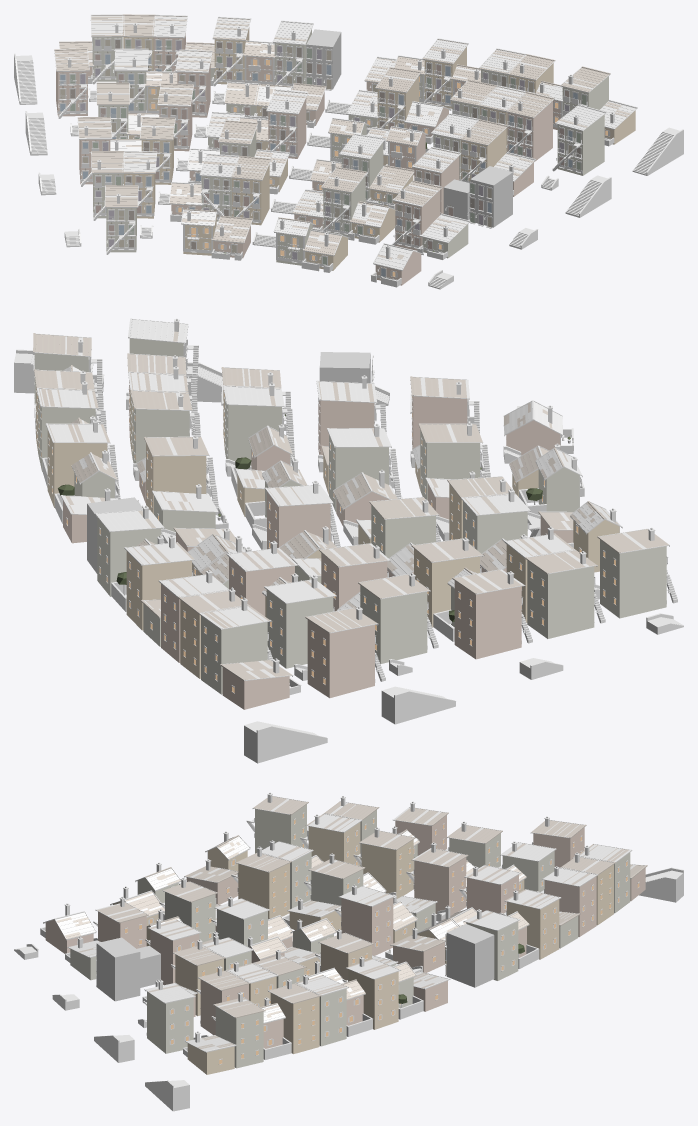
Rendered from bld_moradas_NE.glb.
3 views of the same model, one above another, from view 1: azimuth 30°, elevation 25°; view 2: azimuth 150°, elevation 25°; view 3: azimuth 270°, elevation 25° (orthographic). The views are drawn at different scales.
Visible parts, largest first — view 1: Morada_NE_041_Body, Morada_NE_017_InteriorVolume, Morada_NE_042_Body, Morada_NE_008_Body, Morada_NE_064_InteriorVolume, STAIRS_Terrace_Lateral_Morada_NE_04, Morada_NE_012_Body, Morada_NE_035_Body, Morada_NE_010_Body, Morada_NE_030_Body, STAIRS_Terrace_Lateral_Morada_NE_03, Morada_NE_006_Body (+94 smaller); view 2: Morada_NE_054_Body, Morada_NE_028_Body, Morada_NE_016_Body, Morada_NE_006_Body, Morada_NE_040_Body, Morada_NE_071_Body, Morada_NE_053_Body, Morada_NE_046_Body, Morada_NE_010_Body, Morada_NE_031_Body, Morada_NE_021_Body, Morada_NE_035_Body (+82 smaller); view 3: Morada_NE_064_InteriorVolume, Morada_NE_017_InteriorVolume, Morada_NE_038_Body, Morada_NE_041_Body, Morada_NE_035_Body, Morada_NE_012_Body, Morada_NE_026_Body, Morada_NE_056_Body, Morada_NE_058_Body, Morada_NE_061_Body, Morada_NE_006_Body, Morada_NE_067_Body (+82 smaller).
Part boxes in pixels (x1,y1,x2,y2): Morada_NE_041_Body: [552, 115, 604, 175]; Morada_NE_017_InteriorVolume: [470, 166, 512, 227]; Morada_NE_042_Body: [507, 101, 552, 161]; Morada_NE_008_Body: [392, 190, 440, 250]; Morada_NE_064_InteriorVolume: [306, 29, 341, 89]; STAIRS_Terrace_Lateral_Morada_NE_04: [632, 127, 683, 175]; Morada_NE_012_Body: [232, 164, 269, 225]; Morada_NE_035_Body: [268, 98, 306, 158]; Morada_NE_010_Body: [322, 175, 365, 236]; Morada_NE_030_Body: [460, 128, 506, 182]; STAIRS_Terrace_Lateral_Morada_NE_03: [565, 175, 611, 217]; Morada_NE_006_Body: [106, 207, 136, 254]; Morada_NE_054_Body: [307, 620, 385, 698]; Morada_NE_028_Body: [454, 581, 532, 659]; Morada_NE_016_Body: [527, 560, 605, 638]; Morada_NE_006_Body: [600, 540, 677, 618]; Morada_NE_040_Body: [360, 585, 438, 663]; Morada_NE_071_Body: [201, 616, 273, 694]; Morada_NE_053_Body: [266, 590, 334, 668]; Morada_NE_046_Body: [146, 443, 218, 513]; Morada_NE_010_Body: [420, 430, 490, 499]; Morada_NE_031_Body: [225, 397, 294, 465]; Morada_NE_021_Body: [329, 435, 401, 511]; Morada_NE_035_Body: [267, 492, 340, 549]; Morada_NE_064_InteriorVolume: [446, 924, 494, 987]; Morada_NE_017_InteriorVolume: [96, 937, 140, 1001]; Morada_NE_038_Body: [406, 857, 466, 915]; Morada_NE_041_Body: [143, 992, 193, 1053]; Morada_NE_035_Body: [334, 897, 393, 955]; Morada_NE_012_Body: [231, 863, 289, 918]; Morada_NE_026_Body: [353, 840, 413, 898]; Morada_NE_056_Body: [211, 1006, 263, 1068]; Morada_NE_058_Body: [269, 993, 319, 1054]; Morada_NE_061_Body: [342, 969, 398, 1029]; Morada_NE_006_Body: [246, 804, 306, 853]; Morada_NE_067_Body: [499, 899, 559, 959].
Size of what is drawn, in the model's own units: 128 by 17.3 by 128.
23 materials, 19 textured.
